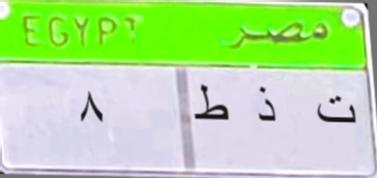8: (72, 85, 116, 131)
Taa: (192, 72, 239, 134)
taa: (308, 91, 360, 133)
zaal: (247, 79, 284, 130)
